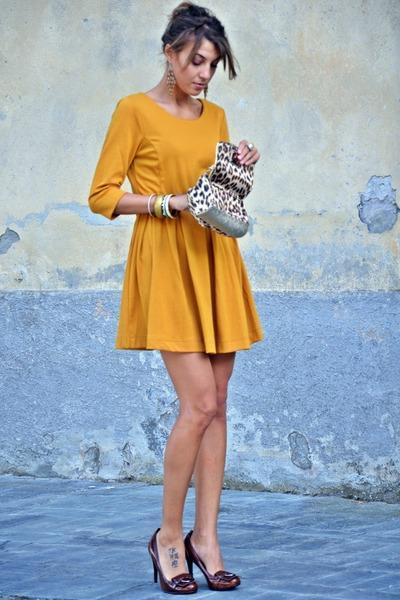bag: (189, 155, 256, 239)
dress: (88, 93, 262, 365)
shoe: (148, 540, 240, 594)
